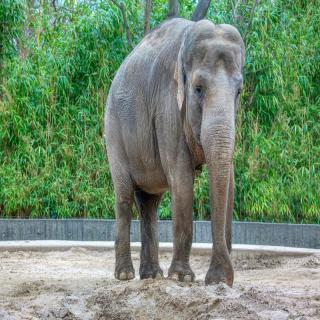Elephant: (102, 13, 247, 294)
